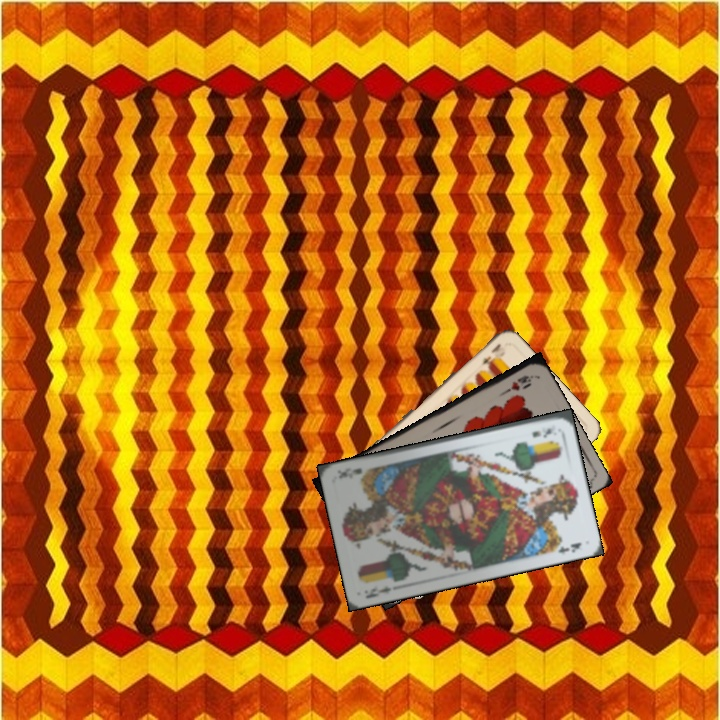E10: (477, 339, 503, 368)
EK: (361, 582, 394, 601), (528, 422, 555, 440)
H10: (497, 371, 535, 398)
